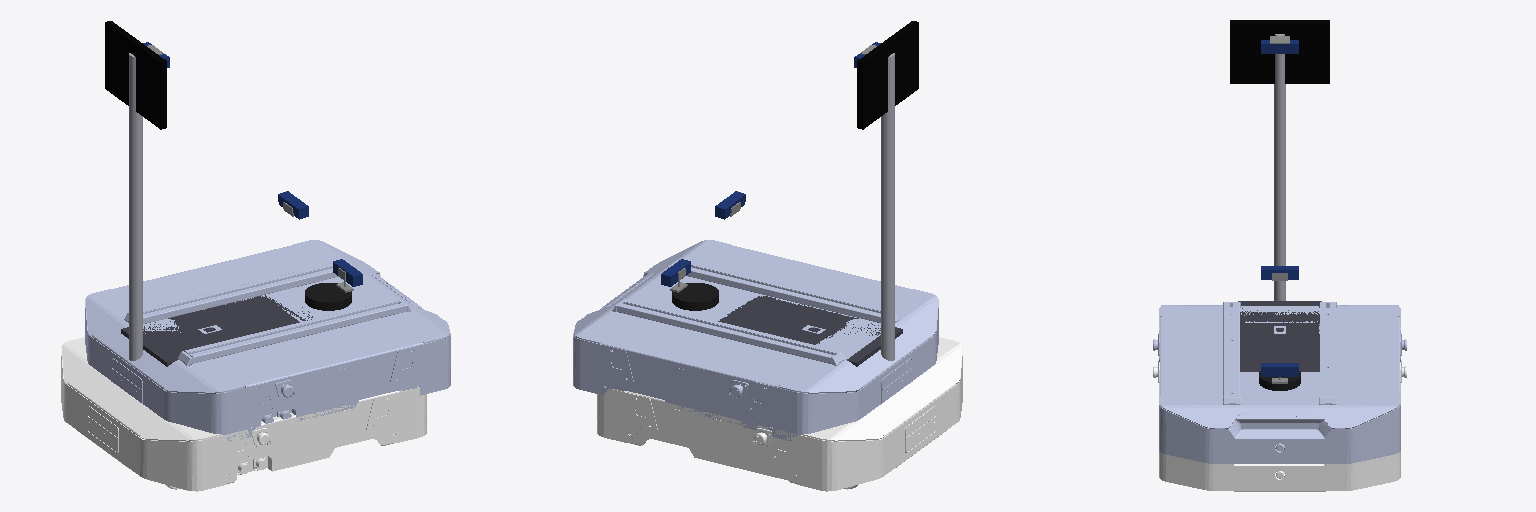
--- Render facts (derived) ---
3 views of the same robot in one strip: view 1: azimuth 30°, elevation 25°; view 2: azimuth 150°, elevation 25°; view 3: azimuth 270°, elevation 25° (orthographic).
Model mobile_manipulator2 with 29 links and 28 joints (6 revolute, 2 continuous, 2 prismatic, 18 fixed), rooted at base_link, posed all joints at 0.
Links seen in each view (by area): view 1: arm_base_link, base_link, 域控保护壳, display_screen, support_pole, lidar_link; view 2: arm_base_link, base_link, display_screen, 域控保护壳, support_pole, lidar_link; view 3: arm_base_link, base_link, display_screen, 域控保护壳, support_pole, FrontCamera.
Boxes of the visible links, x1,y1,x2,y2 form: arm_base_link: [85, 240, 450, 441]; base_link: [61, 336, 426, 491]; 域控保护壳: [121, 295, 312, 392]; display_screen: [105, 21, 166, 129]; support_pole: [129, 53, 142, 360]; lidar_link: [305, 283, 351, 310]; arm_base_link: [573, 240, 938, 442]; base_link: [597, 336, 962, 491]; display_screen: [857, 21, 918, 129]; 域控保护壳: [718, 296, 902, 392]; support_pole: [881, 53, 894, 360]; lidar_link: [672, 283, 718, 310]; arm_base_link: [1153, 302, 1406, 463]; base_link: [1153, 361, 1406, 491]; display_screen: [1230, 20, 1329, 83]; 域控保护壳: [1238, 301, 1321, 371]; support_pole: [1274, 34, 1285, 300]; FrontCamera: [1261, 363, 1298, 376].
Bounding box of the posed robot: 0.7639 × 0.61 × 0.9829 m (x, y, z).
Meshes: 17 distinct files referenced, 6 mesh visuals loaded (5 binary STL); not drawn: 11 (reference not matched to a file when rendering).

The robot description file, URDF, robot "mobile_manipulator2":
<?xml version="1.0" encoding="utf-8"?>
<robot name="mobile_manipulator2">
  
  <!-- =============================================== -->
  <!-- TRACER2.0 移动底盘部分 -->
  <!-- =============================================== -->
  
  <!-- Base link - 使用tracer2的base_link定义 -->
  <link name="base_link">
    <inertial>
      <origin xyz="-0.037979422359657 -0.00314478249004299 -0.0259198905321653" rpy="0 0 0" />
      <mass value="2.4239552885625" />
      <inertia ixx="0.0691541872284658" ixy="0.000423483205221006" ixz="-0.000201466160013829" iyy="0.0588857794520233" iyz="0.000250049528136794" izz="0.125132015686105" />
    </inertial>
    <visual>
      <origin xyz="0 0 0" rpy="0 0 0" />
      <geometry>
        <mesh filename="package://tracer2_description/meshes/base_link.STL" />
      </geometry>
      <material name="tracer2_white">
        <color rgba="1 1 1 1" />
      </material>
    </visual>
    <collision>
      <origin xyz="0 0 0" rpy="0 0 0" />
      <geometry>
        <mesh filename="package://tracer2_description/meshes/base_link.STL" />
      </geometry>
    </collision>
  </link>
  
  <!-- 右驱动轮 - 使用tracer2的轮子定义 -->
  <link name="right_link">
    <inertial>
      <origin xyz="4.7341E-15 1.5543E-15 -0.005" rpy="0 0 0" />
      <mass value="0.14836" />
      <inertia ixx="0.00013099" ixy="3.4159E-20" ixz="-4.7556E-20" iyy="0.00013099" iyz="1.0561E-21" izz="0.00023781" />
    </inertial>
    <visual>
      <origin xyz="0 0 0" rpy="0 0 0" />
      <geometry>
        <mesh filename="package://tracer2_description/meshes/right_link.STL" />
      </geometry>
      <material name="tracer2_white">
        <color rgba="1 1 1 1" />
      </material>
    </visual>
    <collision>
      <origin xyz="0 0 0" rpy="0 0 0" />
      <geometry>
        <mesh filename="package://tracer2_description/meshes/right_link.STL" />
      </geometry>
    </collision>
  </link>
  
  <joint name="right_joint" type="continuous">
    <origin xyz="-0.018818 -0.2537 -0.0905" rpy="-1.5708 0 0" />
    <parent link="base_link" />
    <child link="right_link" />
    <axis xyz="0 0 1" />
  </joint>
  
  <!-- 左驱动轮 -->
  <link name="left_Link">
    <inertial>
      <origin xyz="-8.2507E-18 0 -0.005" rpy="0 0 0" />
      <mass value="0.14836" />
      <inertia ixx="0.00013099" ixy="6.6936E-21" ixz="1.4318E-19" iyy="0.00013099" iyz="-5.3812E-21" izz="0.00023781" />
    </inertial>
    <visual>
      <origin xyz="0 0 0" rpy="0 0 0" />
      <geometry>
        <mesh filename="package://tracer2_description/meshes/left_Link.STL" />
      </geometry>
      <material name="tracer2_white">
        <color rgba="1 1 1 1" />
      </material>
    </visual>
    <collision>
      <origin xyz="0 0 0" rpy="0 0 0" />
      <geometry>
        <mesh filename="package://tracer2_description/meshes/left_Link.STL" />
      </geometry>
    </collision>
  </link>
  
  <joint name="left_joint" type="continuous">
    <origin xyz="-0.018818 0.2537 -0.0905" rpy="1.5708 0 0" />
    <parent link="base_link" />
    <child link="left_Link" />
    <axis xyz="0 0 1" />
  </joint>
  
  <!-- 右前脚轮 -->
  <link name="right_front_link">
    <inertial>
      <origin xyz="-0.013166 2.7397E-05 0.04181" rpy="0 0 0" />
      <mass value="0.2864" />
      <inertia ixx="0.00029479" ixy="5.5901E-08" ixz="5.9543E-05" iyy="0.00032696" iyz="-1.5316E-07" izz="0.00020885" />
    </inertial>
    <visual>
      <origin xyz="0 0 0" rpy="0 0 0" />
      <geometry>
        <mesh filename="package://tracer2_description/meshes/right_front_link.STL" />
      </geometry>
      <material name="tracer2_white">
        <color rgba="1 1 1 1" />
      </material>
    </visual>
    <collision>
      <origin xyz="0 0 0" rpy="0 0 0" />
      <geometry>
        <mesh filename="package://tracer2_description/meshes/right_front_link.STL" />
      </geometry>
    </collision>
  </link>
  
  <joint name="right_front_joint" type="fixed">
    <origin xyz="0.23918 -0.1977 -0.058" rpy="3.1416 0 0" />
    <parent link="base_link" />
    <child link="right_front_link" />
    <axis xyz="0 0 0" />
  </joint>
  
  <!-- 右后脚轮 -->
  <link name="right_rear_link">
    <inertial>
      <origin xyz="-0.013166 2.7397E-05 0.04181" rpy="0 0 0" />
      <mass value="0.2864" />
      <inertia ixx="0.00029479" ixy="5.5901E-08" ixz="5.9543E-05" iyy="0.00032696" iyz="-1.5316E-07" izz="0.00020885" />
    </inertial>
    <visual>
      <origin xyz="0 0 0" rpy="0 0 0" />
      <geometry>
        <mesh filename="package://tracer2_description/meshes/right_rear_link.STL" />
      </geometry>
      <material name="tracer2_white">
        <color rgba="1 1 1 1" />
      </material>
    </visual>
    <collision>
      <origin xyz="0 0 0" rpy="0 0 0" />
      <geometry>
        <mesh filename="package://tracer2_description/meshes/right_rear_link.STL" />
      </geometry>
    </collision>
  </link>
  
  <joint name="right_rea_joint" type="fixed">
    <origin xyz="-0.27082 -0.183 -0.058" rpy="3.1416 0 0" />
    <parent link="base_link" />
    <child link="right_rear_link" />
    <axis xyz="0 0 0" />
  </joint>
  
  <!-- 左前脚轮 -->
  <link name="left_front_link">
    <inertial>
      <origin xyz="-0.013166 -2.7397E-05 -0.04181" rpy="0 0 0" />
      <mass value="0.2864" />
      <inertia ixx="0.00029479" ixy="-5.5901E-08" ixz="-5.9543E-05" iyy="0.00032696" iyz="-1.5316E-07" izz="0.00020885" />
    </inertial>
    <visual>
      <origin xyz="0 0 0" rpy="0 0 0" />
      <geometry>
        <mesh filename="package://tracer2_description/meshes/left_front_link.STL" />
      </geometry>
      <material name="tracer2_white">
        <color rgba="1 1 1 1" />
      </material>
    </visual>
    <collision>
      <origin xyz="0 0 0" rpy="0 0 0" />
      <geometry>
        <mesh filename="package://tracer2_description/meshes/left_front_link.STL" />
      </geometry>
    </collision>
  </link>
  
  <joint name="left_front_joint" type="fixed">
    <origin xyz="0.23918 0.1977 -0.058" rpy="0 0 0" />
    <parent link="base_link" />
    <child link="left_front_link" />
    <axis xyz="0 0 0" />
  </joint>
  
  <!-- 左后脚轮 -->
  <link name="left_rear_link">
    <inertial>
      <origin xyz="0 0 0" rpy="0 0 0" />
      <mass value="0" />
      <inertia ixx="0" ixy="0" ixz="0" iyy="0" iyz="0" izz="0" />
    </inertial>
    <visual>
      <origin xyz="0 0 0" rpy="0 0 0" />
      <geometry>
        <mesh filename="package://tracer2_description/meshes/left_rear_link.STL" />
      </geometry>
      <material name="tracer2_white">
        <color rgba="1 1 1 1" />
      </material>
    </visual>
    <collision>
      <origin xyz="0 0 0" rpy="0 0 0" />
      <geometry>
        <mesh filename="package://tracer2_description/meshes/left_rear_link.STL" />
      </geometry>
    </collision>
  </link>
  
  <joint name="left_rear_joint" type="fixed">
    <origin xyz="-0.27077 0.18305 -0.058" rpy="0 0 0" />
    <parent link="base_link" />
    <child link="left_rear_link" />
    <axis xyz="0 0 0" />
  </joint>
  
  <!-- =============================================== -->
  <!-- 域控保护壳部分 -->
  <!-- =============================================== -->
  
  <!-- 域控保护壳 - 底盘正上方的保护盒 -->
  <link name="域控保护壳">
    <inertial>
      <mass value="2.0"/>
      <origin xyz="0 0 0.05"/>
      <inertia ixx="0.008" ixy="0" ixz="0" iyy="0.025" iyz="0" izz="0.032"/>
    </inertial>
    <visual>
      <origin xyz="0 0 0.05" rpy="0 0 0"/>
      <geometry>
        <box size="0.4 0.2 0.1"/>
      </geometry>
      <material name="control_box_gray">
        <color rgba="0.3 0.3 0.35 1"/>
      </material>
    </visual>
    <collision>
      <origin xyz="0 0 0.05" rpy="0 0 0"/>
      <geometry>
        <box size="0.4 0.2 0.1"/>
      </geometry>
    </collision>
  </link>

  <!-- 域控保护壳固定安装关节 - 固定连接在底盘正上方 -->
  <joint name="base_to_control_box" type="fixed">
    <parent link="base_link"/>
    <child link="域控保护壳"/>
    <!-- 将域控保护壳安装在底盘上表面，沿x轴后移6cm，z轴贴合底盘上表面 -->
    <origin xyz="-0.06 0 0" rpy="0 0 0"/>
  </joint>

  <!-- =============================================== -->
  <!-- LIDAR 激光雷达部分 -->
  <!-- =============================================== -->
  
  <!-- Lidar 传感器 (优化为更真实的尺寸和外观) -->
  <link name="lidar_link">
    <inertial>
      <mass value="0.83"/>
      <origin xyz="0 0 0.06"/>
      <inertia ixx="0.00052" ixy="0" ixz="0" iyy="0.00052" iyz="0" izz="0.00035"/>
    </inertial>
    <visual>
      <origin xyz="0 0 0.06" rpy="0 0 0"/>
      <geometry>
        <cylinder radius="0.051" length="0.12"/>
      </geometry>
      <material name="lidar_black">
        <color rgba="0.15 0.15 0.15 1"/>
      </material>
    </visual>
    <collision>
      <origin xyz="0 0 0.06" rpy="0 0 0"/>
      <geometry>
        <cylinder radius="0.051" length="0.12"/>
      </geometry>
    </collision>
  </link>

  <!-- Lidar 安装关节 - 固定连接在底盘上表面，相对底盘上表面中心沿x轴正方向20cm，高度12cm -->
  <joint name="base_to_lidar" type="fixed">
    <parent link="base_link"/>
    <child link="lidar_link"/>
    <!-- 将lidar安装在底盘上表面中心前方20cm处，lidar自身高度12cm -->
    <origin xyz="0.2 0 0" rpy="0 0 0"/>
  </joint>

  <!-- FrontCamera Lidar前方摄像头 (优化RealSense外观) -->
  <link name="FrontCamera">
    <inertial>
      <mass value="0.072"/>
      <origin xyz="0 0 0"/>
      <inertia ixx="0.000034" ixy="0" ixz="0" iyy="0.000162" iyz="0" izz="0.000162"/>
    </inertial>
    <visual>
      <origin xyz="0 0 0" rpy="0 0 0"/>
      <geometry>
        <box size="0.09 0.025 0.025"/>
      </geometry>
      <material name="realsense_blue">
        <color rgba="0.15 0.25 0.5 1"/>
      </material>
    </visual>
    <collision>
      <origin xyz="0 0 0" rpy="0 0 0"/>
      <geometry>
        <box size="0.09 0.025 0.025"/>
      </geometry>
    </collision>
  </link>

  <!-- FrontCamera安装底座 - 贴合lidar上表面 -->
  <link name="FrontCamera_base_mount">
    <inertial>
      <mass value="0.01"/>
      <origin xyz="0 0 0"/>
      <inertia ixx="0.000002" ixy="0" ixz="0" iyy="0.000002" iyz="0" izz="0.000002"/>
    </inertial>
    <visual>
      <origin xyz="0 0 0" rpy="0 0 0"/>
      <geometry>
        <box size="0.02 0.04 0.005"/>
      </geometry>
      <material name="mount_gray">
        <color rgba="0.6 0.6 0.6 1"/>
      </material>
    </visual>
    <collision>
      <origin xyz="0 0 0" rpy="0 0 0"/>
      <geometry>
        <box size="0.02 0.04 0.005"/>
      </geometry>
    </collision>
  </link>

  <!-- FrontCamera垂直支撑杆 - 高度减半 -->
  <link name="FrontCamera_vertical_pole">
    <inertial>
      <mass value="0.0025"/>
      <origin xyz="0 0 0.015"/>
      <inertia ixx="0.0000005" ixy="0" ixz="0" iyy="0.0000005" iyz="0" izz="0.0000005"/>
    </inertial>
    <visual>
      <origin xyz="0 0 0.015" rpy="0 0 0"/>
      <geometry>
        <cylinder radius="0.003" length="0.03"/>
      </geometry>
      <material name="mount_gray">
        <color rgba="0.6 0.6 0.6 1"/>
      </material>
    </visual>
    <collision>
      <origin xyz="0 0 0.015" rpy="0 0 0"/>
      <geometry>
        <cylinder radius="0.003" length="0.03"/>
      </geometry>
    </collision>
  </link>

  <!-- FrontCamera安装支架 -->
  <link name="FrontCamera_mount">
    <inertial>
      <mass value="0.01"/>
      <origin xyz="0 0 0"/>
      <inertia ixx="0.000005" ixy="0" ixz="0" iyy="0.000005" iyz="0" izz="0.000005"/>
    </inertial>
    <visual>
      <origin xyz="0 0 0" rpy="0 0 0"/>
      <geometry>
        <box size="0.015 0.03 0.02"/>
      </geometry>
      <material name="mount_gray">
        <color rgba="0.6 0.6 0.6 1"/>
      </material>
    </visual>
    <collision>
      <origin xyz="0 0 0" rpy="0 0 0"/>
      <geometry>
        <box size="0.015 0.03 0.02"/>
      </geometry>
    </collision>
  </link>

  <!-- FrontCamera底座安装关节 - 贴合lidar上表面，后移2cm -->
  <joint name="lidar_to_base_mount" type="fixed">
    <parent link="lidar_link"/>
    <child link="FrontCamera_base_mount"/>
    <origin xyz="0.041 0 0.1225" rpy="0 0 0"/>
  </joint>

  <!-- FrontCamera垂直支撑杆关节 -->
  <joint name="base_mount_to_pole" type="fixed">
    <parent link="FrontCamera_base_mount"/>
    <child link="FrontCamera_vertical_pole"/>
    <origin xyz="0 0 0.0025" rpy="0 0 0"/>
  </joint>

  <!-- FrontCamera安装支架关节 - 适配支撑杆减半高度 -->
  <joint name="pole_to_mount" type="fixed">
    <parent link="FrontCamera_vertical_pole"/>
    <child link="FrontCamera_mount"/>
    <origin xyz="0 0 0.03" rpy="0 0 0"/>
  </joint>

  <!-- FrontCamera Lidar前方摄像头安装关节 - 紧贴支架安装，无空隙 -->
  <joint name="mount_to_FrontCamera" type="fixed">
    <parent link="FrontCamera_mount"/>
    <child link="FrontCamera"/>
    <origin xyz="0.0075 0 0" rpy="0 0 1.5708"/>
  </joint>

  <!-- =============================================== -->
  <!-- 支撑杆、显示器和摄像头部分 -->
  <!-- =============================================== -->
  
  <!-- 0.8m高固定铁杆支撑 (优化外观) -->
  <link name="support_pole">
    <inertial>
      <mass value="1.5"/>
      <origin xyz="0 0 0.4"/>
      <inertia ixx="0.08" ixy="0" ixz="0" iyy="0.08" iyz="0" izz="0.0006"/>
    </inertial>
    <visual>
      <origin xyz="0 0 0.4" rpy="0 0 0"/>
      <geometry>
        <cylinder radius="0.015" length="0.8"/>
      </geometry>
      <material name="pole_silver">
        <color rgba="0.7 0.7 0.75 1"/>
      </material>
    </visual>
    <collision>
      <origin xyz="0 0 0.4" rpy="0 0 0"/>
      <geometry>
        <cylinder radius="0.015" length="0.8"/>
      </geometry>
    </collision>
  </link>

  <!-- 支撑杆固定安装关节 - 固定连接并固定在底盘上表面后方28cm处，不可移动 -->
  <joint name="base_to_support_pole" type="fixed">
    <parent link="base_link"/>
    <child link="support_pole"/>
    <origin xyz="-0.28 0 0" rpy="0 0 0"/>
  </joint>

  <!-- 显示器 (增大尺寸) -->
  <link name="display_screen">
    <inertial>
      <mass value="0.6"/>
      <origin xyz="0 0 0"/>
      <inertia ixx="0.003" ixy="0" ixz="0" iyy="0.0045" iyz="0" izz="0.003"/>
    </inertial>
    <visual>
      <origin xyz="0 0 0" rpy="0 0 0"/>
      <geometry>
        <box size="0.24 0.015 0.16"/>
      </geometry>
      <material name="display_black">
        <color rgba="0.05 0.05 0.05 1"/>
      </material>
    </visual>
    <collision>
      <origin xyz="0 0 0" rpy="0 0 0"/>
      <geometry>
        <box size="0.24 0.015 0.16"/>
      </geometry>
    </collision>
  </link>

  <!-- 显示器固定安装关节 - 固定连接并支撑在支撑杆顶部，显示器固定朝向底盘后方（x轴负方向） -->
  <joint name="pole_to_display" type="fixed">
    <parent link="support_pole"/>
    <child link="display_screen"/>
    <origin xyz="0 0 0.75" rpy="0 0 -1.5708" />
  </joint>

  <!-- TopCamera 铁杆顶部摄像头 (优化RealSense外观) -->
  <link name="TopCamera">
    <inertial>
      <mass value="0.072"/>
      <origin xyz="0 0 0"/>
      <inertia ixx="0.000034" ixy="0" ixz="0" iyy="0.000162" iyz="0" izz="0.000162"/>
    </inertial>
    <visual>
      <origin xyz="0 0 0" rpy="0 0 0"/>
      <geometry>
        <box size="0.09 0.025 0.025"/>
      </geometry>
      <material name="realsense_blue">
        <color rgba="0.15 0.25 0.5 1"/>
      </material>
    </visual>
    <collision>
      <origin xyz="0 0 0" rpy="0 0 0"/>
      <geometry>
        <box size="0.09 0.025 0.025"/>
      </geometry>
    </collision>
  </link>

  <!-- TopCamera安装支架 -->
  <link name="TopCamera_mount">
    <inertial>
      <mass value="0.1"/>
      <origin xyz="0 0 0"/>
      <inertia ixx="0.00002" ixy="0" ixz="0" iyy="0.00002" iyz="0" izz="0.00002"/>
    </inertial>
    <visual>
      <origin xyz="0 0 0" rpy="0 0 0"/>
      <geometry>
        <box size="0.04 0.05 0.03"/>
      </geometry>
      <material name="mount_gray">
        <color rgba="0.6 0.6 0.6 1"/>
      </material>
    </visual>
    <collision>
      <origin xyz="0 0 0" rpy="0 0 0"/>
      <geometry>
        <box size="0.04 0.05 0.03"/>
      </geometry>
    </collision>
  </link>

  <!-- TopCamera安装支架关节 - 贴合支撑杆顶部，无空隙 -->
  <joint name="pole_to_mount" type="fixed">
    <parent link="support_pole"/>
    <child link="TopCamera_mount"/>
    <origin xyz="0.035 0 0.785" rpy="0 0 0"/>
  </joint>

  <!-- TopCamera 铁杆顶部摄像头固定安装关节 - 紧贴支架安装，无空隙 -->
  <joint name="pole_to_TopCamera" type="fixed">
    <parent link="TopCamera_mount"/>
    <child link="TopCamera"/>
    <origin xyz="0.01 0 0" rpy="0 0 1.5708"/>
  </joint>

  <!-- =============================================== -->
  <!-- PIPER 机械臂部分 -->
  <!-- =============================================== -->
  
  <!-- 机械臂安装连接器 - 将piper基座固定在域控保护壳上表面 -->
  <joint name="control_box_to_arm_mount" type="fixed">
    <parent link="域控保护壳"/>
    <child link="arm_base_link"/>
    <!-- 将机械臂基座直接安装在域控保护壳上表面，沿x轴前移6cm -->
    <origin xyz="0.12 0 0.1" rpy="0 0 0"/>
  </joint>
  
  <!-- Piper 机械臂基座 -->
  <link name="arm_base_link">
    <inertial>
      <origin xyz="-0.00473641164191482 2.56829134630247E-05 0.041451518036016" rpy="0 0 0" />
      <mass value="1.02" />
      <inertia ixx="0.00267433" ixy="-0.00000073" ixz="-0.00017389" iyy="0.00282612" iyz="0.0000004" izz="0.00089624" />
    </inertial>
    <visual>
      <origin xyz="0 0 0" rpy="0 0 0" />
      <geometry>
        <mesh filename="package://piper_description/meshes/base_link.STL" />
      </geometry>
      <material name="arm_blue">
        <color rgba="0.792156862745098 0.819607843137255 0.933333333333333 1" />
      </material>
    </visual>
    <collision>
      <origin xyz="0 0 0" rpy="0 0 0" />
      <geometry>
        <mesh filename="package://piper_description/meshes/base_link.STL" />
      </geometry>
    </collision>
  </link>
  
  <!-- 机械臂关节1 -->
  <link name="arm_link1">
    <inertial>
      <origin xyz="0.000121504734057468 0.000104632162460536 -0.00438597309559853" rpy="0 0 0" />
      <mass value="0.71" />
      <inertia ixx="0.00048916" ixy="-0.00000036" ixz="-0.00000224" iyy="0.00040472" iyz="-0.00000242" izz="0.00043982" />
    </inertial>
    <visual>
      <origin xyz="0 0 0" rpy="0 0 0" />
      <geometry>
        <mesh filename="package://piper_description/meshes/link1.STL" />
      </geometry>
      <material name="arm_blue">
        <color rgba="0.792156862745098 0.819607843137255 0.933333333333333 1" />
      </material>
    </visual>
    <collision>
      <origin xyz="0 0 0" rpy="0 0 0" />
      <geometry>
        <mesh filename="package://piper_description/meshes/link1.STL" />
      </geometry>
    </collision>
  </link>
  
  <joint name="arm_joint1" type="revolute">
    <origin xyz="0 0 0.123" rpy="0 0 0" />
    <parent link="arm_base_link" />
    <child link="arm_link1" />
    <axis xyz="0 0 1" />
    <limit lower="-2.618" upper="2.618" effort="100" velocity="5" />
  </joint>
  
  <!-- 机械臂关节2 -->
  <link name="arm_link2">
    <inertial>
      <origin xyz="0.198666145229743 -0.010926924140076 0.00142121714502687" rpy="0 0 0" />
      <mass value="1.17" />
      <inertia ixx="0.00116918" ixy="-0.00180037" ixz="0.00025146" iyy="0.06785384" iyz="-0.00000455" izz="0.06774489" />
    </inertial>
    <visual>
      <origin xyz="0 0 0" rpy="0 0 0" />
      <geometry>
        <mesh filename="package://piper_description/meshes/link2.STL" />
      </geometry>
      <material name="arm_blue">
        <color rgba="0.792156862745098 0.819607843137255 0.933333333333333 1" />
      </material>
    </visual>
    <collision>
      <origin xyz="0 0 0" rpy="0 0 0" />
      <geometry>
        <mesh filename="package://piper_description/meshes/link2.STL" />
      </geometry>
    </collision>
  </link>
  
  <joint name="arm_joint2" type="revolute">
    <origin xyz="0 0 0" rpy="1.5708 -0.1359 -3.1416" />
    <parent link="arm_link1" />
    <child link="arm_link2" />
    <axis xyz="0 0 1" />
    <limit lower="0" upper="3.14" effort="100" velocity="5" />
  </joint>
  
  <!-- 机械臂关节3 -->
  <link name="arm_link3">
    <inertial>
      <origin xyz="-0.0202737662122021 -0.133914995944595 -0.000458682652737356" rpy="0 0 0" />
      <mass value="0.5" />
      <inertia ixx="0.01361711" ixy="0.00165794" ixz="-0.00000048" iyy="0.00045024" iyz="-0.00000045" izz="0.01380322" />
    </inertial>
    <visual>
      <origin xyz="0 0 0" rpy="0 0 0" />
      <geometry>
        <mesh filename="package://piper_description/meshes/link3.STL" />
      </geometry>
      <material name="arm_blue">
        <color rgba="0.792156862745098 0.819607843137255 0.933333333333333 1" />
      </material>
    </visual>
    <collision>
      <origin xyz="0 0 0" rpy="0 0 0" />
      <geometry>
        <mesh filename="package://piper_description/meshes/link3.STL" />
      </geometry>
    </collision>
  </link>
  
  <joint name="arm_joint3" type="revolute">
    <origin xyz="0.28503 0 0" rpy="0 0 -1.7939" />
    <parent link="arm_link2" />
    <child link="arm_link3" />
    <axis xyz="0 0 1" />
    <limit lower="-2.967" upper="0" effort="100" velocity="5" />
  </joint>
  
  <!-- 机械臂关节4 -->
  <link name="arm_link4">
    <inertial>
      <origin xyz="-9.66635791618542E-05 0.000876064475651083 -0.00496880904640868" rpy="0 0 0" />
      <mass value="0.38" />
      <inertia ixx="0.00018501" ixy="0.00000054" ixz="0.00000120" iyy="0.00018965" iyz="-0.00000841" izz="0.00015484" />
    </inertial>
    <visual>
      <origin xyz="0 0 0" rpy="0 0 0" />
      <geometry>
        <mesh filename="package://piper_description/meshes/link4.STL" />
      </geometry>
      <material name="arm_blue">
        <color rgba="0.792156862745098 0.819607843137255 0.933333333333333 1" />
      </material>
    </visual>
    <collision>
      <origin xyz="0 0 0" rpy="0 0 0" />
      <geometry>
        <mesh filename="package://piper_description/meshes/link4.STL" />
      </geometry>
    </collision>
  </link>
  
  <joint name="arm_joint4" type="revolute">
    <origin xyz="-0.021984 -0.25075 0" rpy="1.5708 0 0" />
    <parent link="arm_link3" />
    <child link="arm_link4" />
    <axis xyz="0 0 1" />
    <limit lower="-1.745" upper="1.745" effort="100" velocity="5" />
  </joint>
  
  <!-- 机械臂关节5 -->
  <link name="arm_link5">
    <inertial>
      <origin xyz="-4.10554118924211E-05 -0.0566486692356075 -0.0037205791677906" rpy="0 0 0" />
      <mass value="0.383" />
      <inertia ixx="0.00166169" ixy="0.00000006" ixz="-0.00000007" iyy="0.00018510" iyz="0.00001026" izz="0.00164321" />
    </inertial>
    <visual>
      <origin xyz="0 0 0" rpy="0 0 0" />
      <geometry>
        <mesh filename="package://piper_description/meshes/link5.STL" />
      </geometry>
      <material name="arm_blue">
        <color rgba="0.792156862745098 0.819607843137255 0.933333333333333 1" />
      </material>
    </visual>
    <collision>
      <origin xyz="0 0 0" rpy="0 0 0" />
      <geometry>
        <mesh filename="package://piper_description/meshes/link5.STL" />
      </geometry>
    </collision>
  </link>
  
  <joint name="arm_joint5" type="revolute">
    <origin xyz="0 0 0" rpy="-1.5708 0 0" />
    <parent link="arm_link4" />
    <child link="arm_link5" />
    <axis xyz="0 0 1" />
    <limit lower="-1.22" upper="1.22" effort="100" velocity="5" />
  </joint>
  
  <!-- 机械臂关节6 -->
  <link name="arm_link6">
    <inertial>
      <origin xyz="-8.82590762930069E-05 9.0598378529832E-06 -0.002" rpy="0 0 0" />
      <mass value="0.007" />
      <inertia ixx="5.73015540542155E-07" ixy="-1.98305403089247E-22" ixz="-7.2791893904596E-23" iyy="5.73015540542155E-07" iyz="-3.4146026640245E-24" izz="1.06738869138926E-06" />
    </inertial>
    <visual>
      <origin xyz="0 0 0" rpy="0 0 0" />
      <geometry>
        <mesh filename="package://piper_description/meshes/link6.STL" />
      </geometry>
      <material name="arm_light_blue">
        <color rgba="0.898039215686275 0.917647058823529 0.929411764705882 1" />
      </material>
    </visual>
    <collision>
      <origin xyz="0 0 0" rpy="0 0 0" />
      <geometry>
        <mesh filename="package://piper_description/meshes/link6.STL" />
      </geometry>
    </collision>
  </link>
  
  <joint name="arm_joint6" type="revolute">
    <origin xyz="8.8259E-05 -0.091 0" rpy="1.5708 0 0" />
    <parent link="arm_link5" />
    <child link="arm_link6" />
    <axis xyz="0 0 1" />
    <limit lower="-2.0944" upper="2.0944" effort="100" velocity="3" />
  </joint>
  
  <!-- HandCamera 机械臂手部摄像头 (优化RealSense外观) -->
  <link name="HandCamera">
    <inertial>
      <mass value="0.072"/>
      <origin xyz="0 0 0"/>
      <inertia ixx="0.000034" ixy="0" ixz="0" iyy="0.000162" iyz="0" izz="0.000162"/>
    </inertial>
    <visual>
      <origin xyz="0 0 0" rpy="0 0 0"/>
      <geometry>
        <box size="0.09 0.025 0.025"/>
      </geometry>
      <material name="realsense_blue">
        <color rgba="0.15 0.25 0.5 1"/>
      </material>
    </visual>
    <collision>
      <origin xyz="0 0 0" rpy="0 0 0"/>
      <geometry>
        <box size="0.09 0.025 0.025"/>
      </geometry>
    </collision>
  </link>

  <!-- HandCamera安装支架 -->
  <link name="HandCamera_mount">
    <inertial>
      <mass value="0.05"/>
      <origin xyz="0 0 0"/>
      <inertia ixx="0.00001" ixy="0" ixz="0" iyy="0.00001" iyz="0" izz="0.00001"/>
    </inertial>
    <visual>
      <origin xyz="0 0 0" rpy="0 0 0"/>
      <geometry>
        <box size="0.02 0.04 0.03"/>
      </geometry>
      <material name="mount_gray">
        <color rgba="0.6 0.6 0.6 1"/>
      </material>
    </visual>
    <collision>
      <origin xyz="0 0 0" rpy="0 0 0"/>
      <geometry>
        <box size="0.02 0.04 0.03"/>
      </geometry>
    </collision>
  </link>

  <!-- HandCamera安装支架关节 - 贴合机械臂第6关节，无空隙 -->
  <joint name="arm_link6_to_mount" type="fixed">
    <parent link="arm_link6"/>
    <child link="HandCamera_mount"/>
    <origin xyz="-0.03 0 0" rpy="0 0 0"/>
  </joint>

  <!-- HandCamera 机械臂手部摄像头安装关节 - 紧贴支架安装，无空隙 -->
  <joint name="arm_link6_to_HandCamera" type="fixed">
    <parent link="HandCamera_mount"/>
    <child link="HandCamera"/>
    <origin xyz="-0.005 0 0" rpy="0 0 1.5708"/>
  </joint>

  <!-- 夹爪基座 -->
  <link name="arm_gripper_base">
    <inertial>
      <origin xyz="-0.000183807162235591 8.05033155577911E-05 0.0321436689908876" rpy="0 0 0" />
      <mass value="0.45" />
      <inertia ixx="0.00092934" ixy="0.00000034" ixz="-0.00000738" iyy="0.00071447" iyz="0.00000005" izz="0.00039442" />
    </inertial>
    <visual>
      <origin xyz="0 0 0" rpy="0 0 0" />
      <geometry>
        <mesh filename="package://piper_description/meshes/gripper_base.STL" />
      </geometry>
      <material name="arm_blue">
        <color rgba="0.792156862745098 0.819607843137255 0.933333333333333 1" />
      </material>
    </visual>
    <collision>
      <origin xyz="0 0 0" rpy="0 0 0" />
      <geometry>
        <mesh filename="package://piper_description/meshes/gripper_base.STL" />
      </geometry>
    </collision>
  </link>
  
  <joint name="arm_joint6_to_gripper_base" type="fixed">
    <origin xyz="0 0 0" rpy="0 0 0" />
    <parent link="arm_link6" />
    <child link="arm_gripper_base" />
  </joint>
  
  <!-- 夹爪手指1 -->
  <link name="arm_link7">
    <inertial>
      <origin xyz="0.00065123185041968 -0.0491929869131989 0.00972258769184025" rpy="0 0 0" />
      <mass value="0.025" />
      <inertia ixx="0.00007371" ixy="-0.00000113" ixz="0.00000021" iyy="0.00000781" iyz="-0.00001372" izz="0.0000747" />
    </inertial>
    <visual>
      <origin xyz="0 0 0" rpy="0 0 0" />
      <geometry>
        <mesh filename="package://piper_description/meshes/link7.STL" />
      </geometry>
      <material name="arm_blue">
        <color rgba="0.792156862745098 0.819607843137255 0.933333333333333 1" />
      </material>
    </visual>
    <collision>
      <origin xyz="0 0 0" rpy="0 0 0" />
      <geometry>
        <mesh filename="package://piper_description/meshes/link7.STL" />
      </geometry>
    </collision>
  </link>
  
  <joint name="arm_joint7" type="prismatic">
    <origin xyz="0 0 0.1358" rpy="1.5708 0 0" />
    <parent link="arm_gripper_base" />
    <child link="arm_link7" />
    <axis xyz="0 0 1" />
    <limit lower="0" upper="0.035" effort="100" velocity="1" />
  </joint>
  
  <!-- 夹爪手指2 -->
  <link name="arm_link8">
    <inertial>
      <origin xyz="0.000651231850419722 -0.0491929869131991 0.00972258769184024" rpy="0 0 0" />
      <mass value="0.025" />
      <inertia ixx="0.00007371" ixy="-0.00000113" ixz="0.00000021" iyy="0.00000781" iyz="-0.00001372" izz="0.0000747" />
    </inertial>
    <visual>
      <origin xyz="0 0 0" rpy="0 0 0" />
      <geometry>
        <mesh filename="package://piper_description/meshes/link8.STL" />
      </geometry>
      <material name="arm_blue">
        <color rgba="0.792156862745098 0.819607843137255 0.933333333333333 1" />
      </material>
    </visual>
    <collision>
      <origin xyz="0 0 0" rpy="0 0 0" />
      <geometry>
        <mesh filename="package://piper_description/meshes/link8.STL" />
      </geometry>
    </collision>
  </link>
  
  <joint name="arm_joint8" type="prismatic">
    <origin xyz="0 0 0.1358" rpy="1.5708 0 -3.1416" />
    <parent link="arm_gripper_base" />
    <child link="arm_link8" />
    <axis xyz="0 0 -1" />
    <limit lower="-0.035" upper="0" effort="100" velocity="1" />
  </joint>
  
  <!-- =============================================== -->
  <!-- 传动系统配置 -->
  <!-- =============================================== -->
  
  <!-- 底盘传动 - 适配tracer2.0的双轮差分驱动 -->
  <transmission name="right_wheel_trans" type="SimpleTransmission">
    <type>transmission_interface/SimpleTransmission</type>
    <actuator name="right_wheel_motor">
      <mechanicalReduction>1</mechanicalReduction>
    </actuator>
    <joint name="right_joint">
      <hardwareInterface>hardware_interface/VelocityJointInterface</hardwareInterface>
    </joint>
  </transmission>
  
  <transmission name="left_wheel_trans" type="SimpleTransmission">
    <type>transmission_interface/SimpleTransmission</type>
    <actuator name="left_wheel_motor">
      <mechanicalReduction>1</mechanicalReduction>
    </actuator>
    <joint name="left_joint">
      <hardwareInterface>hardware_interface/VelocityJointInterface</hardwareInterface>
    </joint>
  </transmission>
  
  <!-- 机械臂传动 -->
  <transmission name="arm_joint1_trans" type="SimpleTransmission">
    <type>transmission_interface/SimpleTransmission</type>
    <actuator name="arm_joint1_motor">
      <mechanicalReduction>1</mechanicalReduction>
    </actuator>
    <joint name="arm_joint1">
      <hardwareInterface>hardware_interface/PositionJointInterface</hardwareInterface>
    </joint>
  </transmission>
  
  <transmission name="arm_joint2_trans" type="SimpleTransmission">
    <type>transmission_interface/SimpleTransmission</type>
    <actuator name="arm_joint2_motor">
      <mechanicalReduction>1</mechanicalReduction>
    </actuator>
    <joint name="arm_joint2">
      <hardwareInterface>hardware_interface/PositionJointInterface</hardwareInterface>
    </joint>
  </transmission>
  
  <transmission name="arm_joint3_trans" type="SimpleTransmission">
    <type>transmission_interface/SimpleTransmission</type>
    <actuator name="arm_joint3_motor">
      <mechanicalReduction>1</mechanicalReduction>
    </actuator>
    <joint name="arm_joint3">
      <hardwareInterface>hardware_interface/PositionJointInterface</hardwareInterface>
    </joint>
  </transmission>
  
  <transmission name="arm_joint4_trans" type="SimpleTransmission">
    <type>transmission_interface/SimpleTransmission</type>
    <actuator name="arm_joint4_motor">
      <mechanicalReduction>1</mechanicalReduction>
    </actuator>
    <joint name="arm_joint4">
      <hardwareInterface>hardware_interface/PositionJointInterface</hardwareInterface>
    </joint>
  </transmission>
  
  <transmission name="arm_joint5_trans" type="SimpleTransmission">
    <type>transmission_interface/SimpleTransmission</type>
    <actuator name="arm_joint5_motor">
      <mechanicalReduction>1</mechanicalReduction>
    </actuator>
    <joint name="arm_joint5">
      <hardwareInterface>hardware_interface/PositionJointInterface</hardwareInterface>
    </joint>
  </transmission>
  
  <transmission name="arm_joint6_trans" type="SimpleTransmission">
    <type>transmission_interface/SimpleTransmission</type>
    <actuator name="arm_joint6_motor">
      <mechanicalReduction>1</mechanicalReduction>
    </actuator>
    <joint name="arm_joint6">
      <hardwareInterface>hardware_interface/PositionJointInterface</hardwareInterface>
    </joint>
  </transmission>
  
  <transmission name="arm_joint7_trans" type="SimpleTransmission">
    <type>transmission_interface/SimpleTransmission</type>
    <actuator name="arm_joint7_motor">
      <mechanicalReduction>1</mechanicalReduction>
    </actuator>
    <joint name="arm_joint7">
      <hardwareInterface>hardware_interface/PositionJointInterface</hardwareInterface>
    </joint>
  </transmission>
  
  <transmission name="arm_joint8_trans" type="SimpleTransmission">
    <type>transmission_interface/SimpleTransmission</type>
    <actuator name="arm_joint8_motor">
      <mechanicalReduction>1</mechanicalReduction>
    </actuator>
    <joint name="arm_joint8">
      <hardwareInterface>hardware_interface/PositionJointInterface</hardwareInterface>
    </joint>
  </transmission>
  
  <!-- =============================================== -->
  <!-- Gazebo 插件配置 -->
  <!-- =============================================== -->
  
  <gazebo>
    <plugin filename="libgazebo_ros_control.so" name="gazebo_ros_control">
      <robotNamespace>/mobile_manipulator2</robotNamespace>
    </plugin>
  </gazebo>
  
  <!-- 底盘运动控制 - 适配tracer2.0的双轮差分驱动 -->
  <gazebo>
    <plugin name="differential_drive_controller" filename="libgazebo_ros_diff_drive.so">
      <updateRate>100.0</updateRate>
      <robotNamespace>/mobile_manipulator2</robotNamespace>
      <leftJoint>left_joint</leftJoint>
      <rightJoint>right_joint</rightJoint>
      <wheelSeparation>0.5074</wheelSeparation>
      <wheelDiameter>0.165</wheelDiameter>
      <robotBaseFrame>base_link</robotBaseFrame>
      <torque>30</torque>
      <commandTopic>cmd_vel</commandTopic>
      <broadcastTF>true</broadcastTF>
      <odometryTopic>odom</odometryTopic>
      <odometryFrame>odom</odometryFrame>
      <odometrySource>world</odometrySource>
    </plugin>
  </gazebo>

  <!-- Lidar 传感器Gazebo插件 -->
  <gazebo reference="lidar_link">
    <sensor type="ray" name="lidar_sensor">
      <pose>0 0 0 0 0 0</pose>
      <visualize>true</visualize>
      <update_rate>10</update_rate>
      <ray>
        <scan>
          <horizontal>
            <samples>360</samples>
            <resolution>1</resolution>
            <min_angle>-3.14159</min_angle>
            <max_angle>3.14159</max_angle>
          </horizontal>
        </scan>
        <range>
          <min>0.1</min>
          <max>10.0</max>
          <resolution>0.01</resolution>
        </range>
        <noise>
          <type>gaussian</type>
          <mean>0.0</mean>
          <stddev>0.01</stddev>
        </noise>
      </ray>
      <plugin name="lidar_controller" filename="libgazebo_ros_laser.so">
        <topicName>/mobile_manipulator2/scan</topicName>
        <frameName>lidar_link</frameName>
      </plugin>
    </sensor>
    <material>Gazebo/DarkGrey</material>
  </gazebo>

  <!-- TopCamera 铁杆顶部摄像头Gazebo插件 -->
  <gazebo reference="TopCamera">
    <sensor type="depth" name="realsense_depth_sensor">
      <pose>0 0 0 0 0 0</pose>
      <visualize>true</visualize>
      <update_rate>30</update_rate>
      <camera>
        <horizontal_fov>1.047</horizontal_fov>
        <image>
          <width>640</width>
          <height>480</height>
          <format>R8G8B8</format>
        </image>
        <depth_camera>
          <output>
            <type>depth</type>
          </output>
        </depth_camera>
        <clip>
          <near>0.1</near>
          <far>10</far>
        </clip>
      </camera>
      <plugin name="realsense_camera_controller" filename="libgazebo_ros_openni_kinect.so">
        <baseline>0.055</baseline>
        <alwaysOn>true</alwaysOn>
        <updateRate>30.0</updateRate>
        <cameraName>/mobile_manipulator2/TopCamera</cameraName>
        <imageTopicName>color/image_raw</imageTopicName>
        <cameraInfoTopicName>color/camera_info</cameraInfoTopicName>
        <depthImageTopicName>depth/image_raw</depthImageTopicName>
        <depthImageCameraInfoTopicName>depth/camera_info</depthImageCameraInfoTopicName>
        <pointCloudTopicName>depth/points</pointCloudTopicName>
        <frameName>TopCamera</frameName>
        <pointCloudCutoff>0.1</pointCloudCutoff>
        <pointCloudCutoffMax>10.0</pointCloudCutoffMax>
        <hackBaseline>0</hackBaseline>
      </plugin>
    </sensor>
    <material>Gazebo/SkyBlue</material>
  </gazebo>

  <!-- 支撑杆材质 -->
  <gazebo reference="support_pole">
    <material>Gazebo/Silver</material>
  </gazebo>

  <!-- 安装支架材质 -->
  <gazebo reference="TopCamera_mount">
    <material>Gazebo/Grey</material>
  </gazebo>

  <gazebo reference="FrontCamera_base_mount">
    <material>Gazebo/Grey</material>
  </gazebo>

  <gazebo reference="FrontCamera_vertical_pole">
    <material>Gazebo/Grey</material>
  </gazebo>

  <gazebo reference="FrontCamera_mount">
    <material>Gazebo/Grey</material>
  </gazebo>

  <gazebo reference="HandCamera_mount">
    <material>Gazebo/Grey</material>
  </gazebo>

  <!-- 显示器材质 -->
  <gazebo reference="display_screen">
    <material>Gazebo/DarkGrey</material>
  </gazebo>

  <!-- HandCamera 机械臂手部摄像头Gazebo插件 -->
  <gazebo reference="HandCamera">
    <sensor type="depth" name="arm_realsense_depth_sensor">
      <pose>0 0 0 0 0 0</pose>
      <visualize>true</visualize>
      <update_rate>30</update_rate>
      <camera>
        <horizontal_fov>1.047</horizontal_fov>
        <image>
          <width>640</width>
          <height>480</height>
          <format>R8G8B8</format>
        </image>
        <depth_camera>
          <output>
            <type>depth</type>
          </output>
        </depth_camera>
        <clip>
          <near>0.1</near>
          <far>10</far>
        </clip>
      </camera>
      <plugin name="arm_realsense_camera_controller" filename="libgazebo_ros_openni_kinect.so">
        <baseline>0.055</baseline>
        <alwaysOn>true</alwaysOn>
        <updateRate>30.0</updateRate>
        <cameraName>/mobile_manipulator2/HandCamera</cameraName>
        <imageTopicName>color/image_raw</imageTopicName>
        <cameraInfoTopicName>color/camera_info</cameraInfoTopicName>
        <depthImageTopicName>depth/image_raw</depthImageTopicName>
        <depthImageCameraInfoTopicName>depth/camera_info</depthImageCameraInfoTopicName>
        <pointCloudTopicName>depth/points</pointCloudTopicName>
        <frameName>HandCamera</frameName>
        <pointCloudCutoff>0.1</pointCloudCutoff>
        <pointCloudCutoffMax>10.0</pointCloudCutoffMax>
        <hackBaseline>0</hackBaseline>
      </plugin>
    </sensor>
    <material>Gazebo/SkyBlue</material>
  </gazebo>

  <!-- FrontCamera Lidar前方摄像头Gazebo插件 -->
  <gazebo reference="FrontCamera">
    <sensor type="depth" name="lidar_realsense_depth_sensor">
      <pose>0 0 0 0 0 0</pose>
      <visualize>true</visualize>
      <update_rate>30</update_rate>
      <camera>
        <horizontal_fov>1.047</horizontal_fov>
        <image>
          <width>640</width>
          <height>480</height>
          <format>R8G8B8</format>
        </image>
        <depth_camera>
          <output>
            <type>depth</type>
          </output>
        </depth_camera>
        <clip>
          <near>0.1</near>
          <far>10</far>
        </clip>
      </camera>
      <plugin name="lidar_realsense_camera_controller" filename="libgazebo_ros_openni_kinect.so">
        <baseline>0.055</baseline>
        <alwaysOn>true</alwaysOn>
        <updateRate>30.0</updateRate>
        <cameraName>/mobile_manipulator2/FrontCamera</cameraName>
        <imageTopicName>color/image_raw</imageTopicName>
        <cameraInfoTopicName>color/camera_info</cameraInfoTopicName>
        <depthImageTopicName>depth/image_raw</depthImageTopicName>
        <depthImageCameraInfoTopicName>depth/camera_info</depthImageCameraInfoTopicName>
        <pointCloudTopicName>depth/points</pointCloudTopicName>
        <frameName>FrontCamera</frameName>
        <pointCloudCutoff>0.1</pointCloudCutoff>
        <pointCloudCutoffMax>10.0</pointCloudCutoffMax>
        <hackBaseline>0</hackBaseline>
      </plugin>
    </sensor>
    <material>Gazebo/SkyBlue</material>
  </gazebo>

  <!-- tracer2.0底盘材质 -->
  <gazebo reference="base_link">
    <material>Gazebo/White</material>
  </gazebo>

  <gazebo reference="right_link">
    <material>Gazebo/DarkGrey</material>
  </gazebo>

  <gazebo reference="left_Link">
    <material>Gazebo/DarkGrey</material>
  </gazebo>

  <gazebo reference="right_front_link">
    <material>Gazebo/Grey</material>
  </gazebo>

  <gazebo reference="right_rear_link">
    <material>Gazebo/Grey</material>
  </gazebo>

  <gazebo reference="left_front_link">
    <material>Gazebo/Grey</material>
  </gazebo>

  <gazebo reference="left_rear_link">
    <material>Gazebo/Grey</material>
  </gazebo>

  <!-- 域控保护壳材质 -->
  <gazebo reference="域控保护壳">
    <material>Gazebo/DarkGrey</material>
  </gazebo>
  
</robot>
